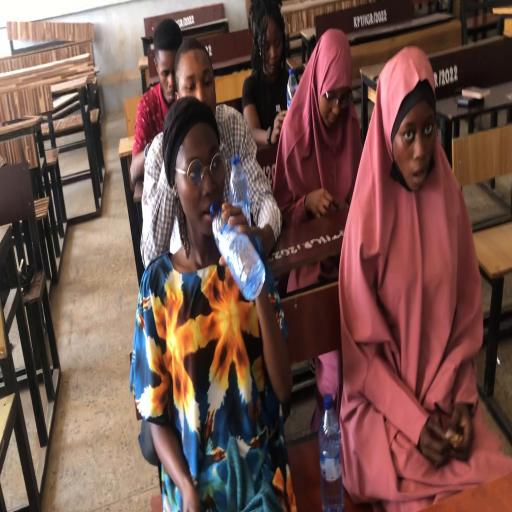Eating: (336, 46, 502, 503), (133, 98, 294, 508), (130, 19, 183, 228)
